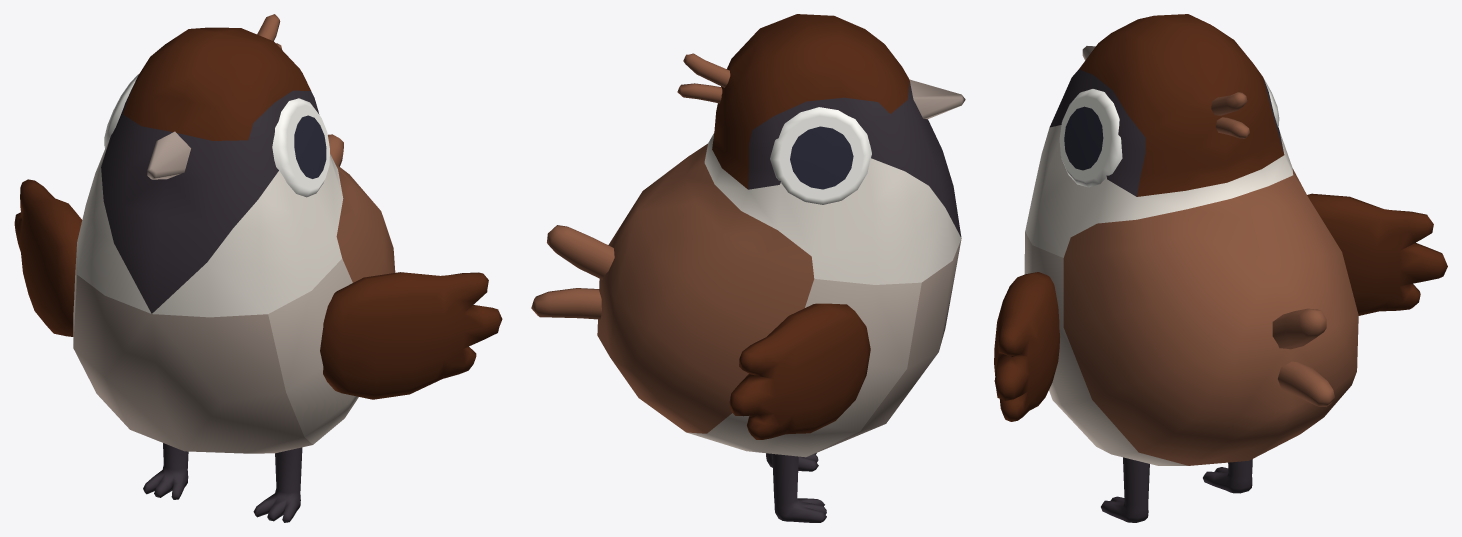
File: squid.fbx
3 views of the same model, side by side, from view 1: azimuth 30°, elevation 25°; view 2: azimuth 150°, elevation 25°; view 3: azimuth 270°, elevation 25° (orthographic).
Parts seen in each view (by area): view 1: Sparrow_LOD1.001; view 2: Sparrow_LOD1.001; view 3: Sparrow_LOD1.001.
Boxes of the visible parts, box(x1,y1,x2,y2) form: Sparrow_LOD1.001: box(14, 14, 502, 522); Sparrow_LOD1.001: box(531, 14, 965, 522); Sparrow_LOD1.001: box(994, 14, 1447, 522).
Bounding box in the file's own units: 49.76 × 67.27 × 58.7.
